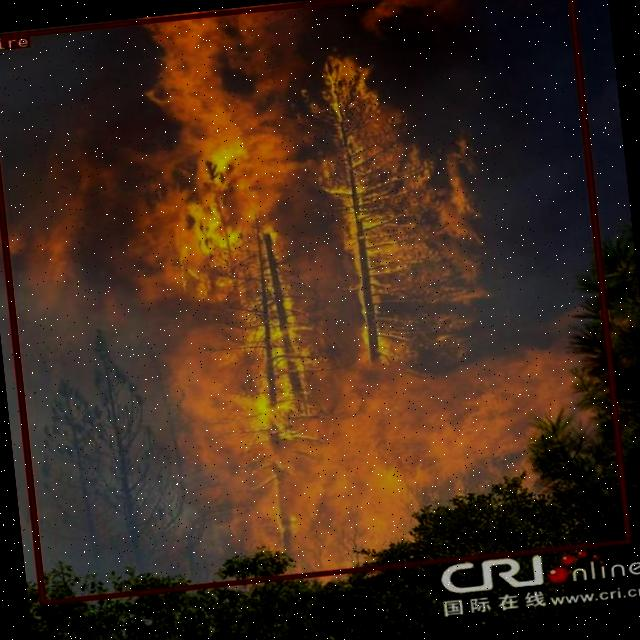fire: (0, 0, 630, 603)
